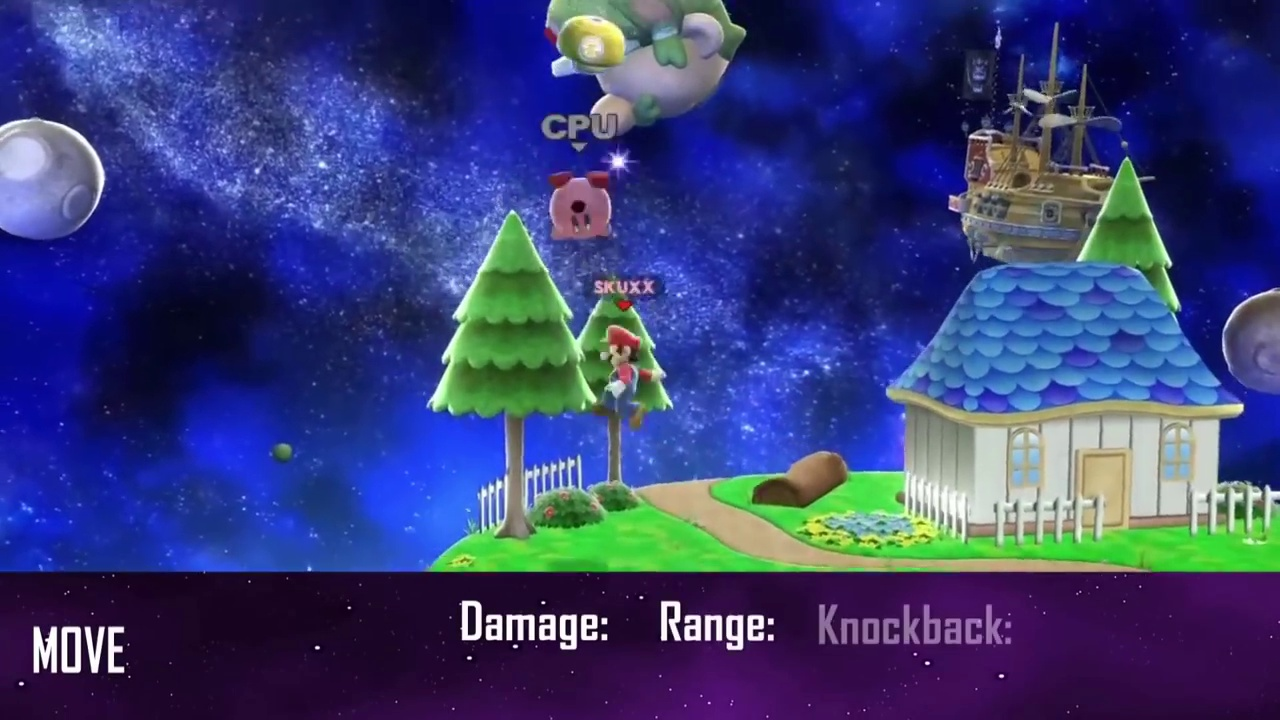Mario: (595, 324, 668, 426)
